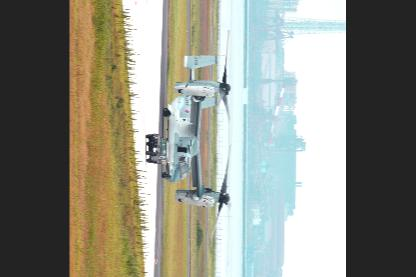Tornado: (163, 29, 232, 239)
